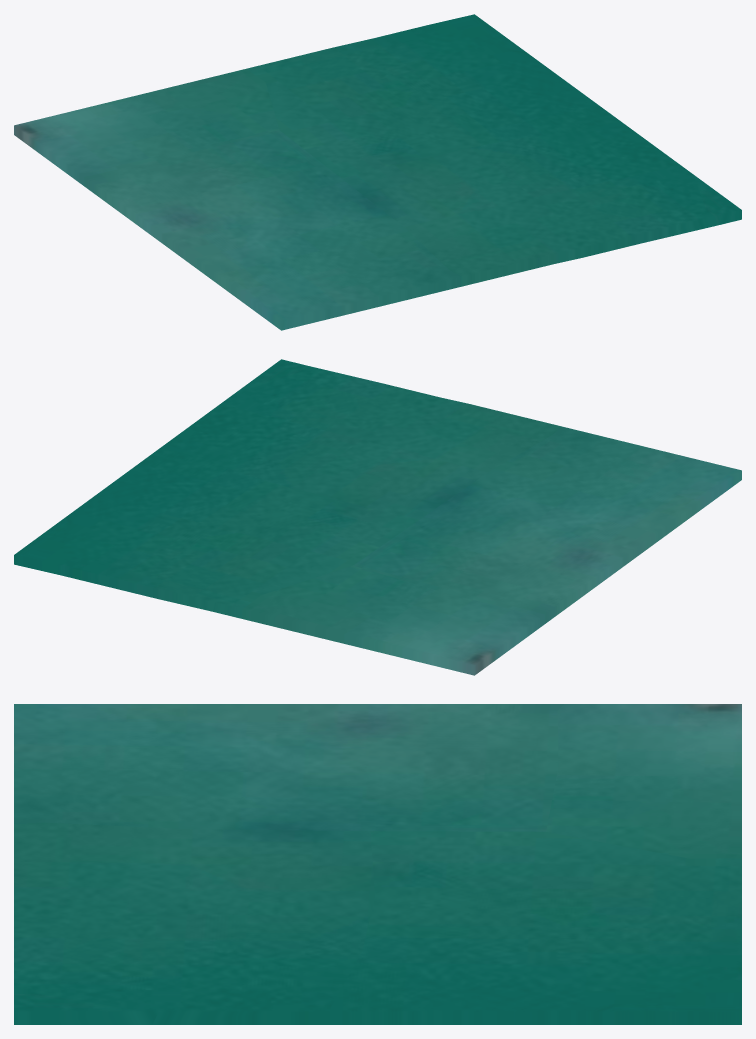
File: z20-167556-405169-h0-yup-uvflip-v3-world.glb
3 views of the same model, one above another, from view 1: azimuth 30°, elevation 25°; view 2: azimuth 150°, elevation 25°; view 3: azimuth 270°, elevation 25° (orthographic). The views are drawn at different scales.
Bounding box in the file's own units: 30.16 × 0.72 × 30.32.
Materials: 1 (1 with a texture image).
